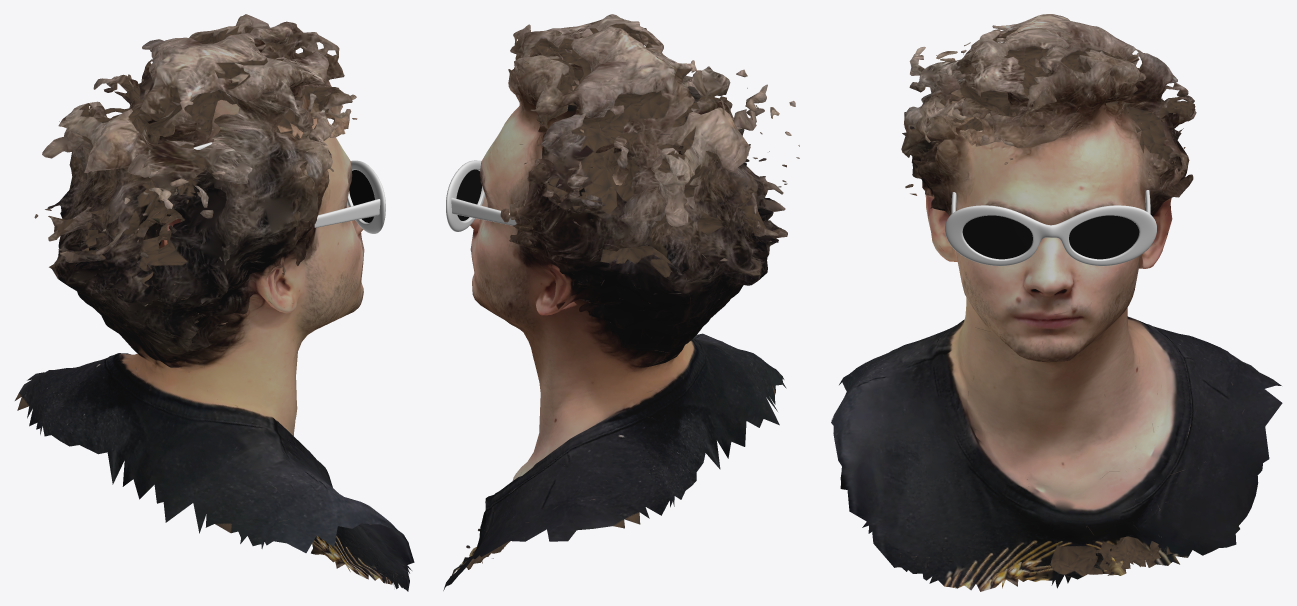
File: meandI2.glb
3 views of the same model, side by side, from view 1: azimuth 30°, elevation 25°; view 2: azimuth 150°, elevation 25°; view 3: azimuth 270°, elevation 25° (orthographic). The views are drawn at different scales.
Parts seen in each view (by area): view 1: mesh_lowpoly.001, Plane.002_Plane.003; view 2: mesh_lowpoly.001, Plane.002_Plane.003; view 3: mesh_lowpoly.001, Plane.002_Plane.003.
Part boxes in pixels (x1,y1,x2,y2): mesh_lowpoly.001: [15, 14, 414, 591]; Plane.002_Plane.003: [193, 142, 385, 233]; mesh_lowpoly.001: [443, 14, 799, 590]; Plane.002_Plane.003: [446, 160, 516, 231]; mesh_lowpoly.001: [831, 14, 1282, 591]; Plane.002_Plane.003: [945, 190, 1156, 265].
Bounding box in the file's own units: 2.12 × 3.38 × 2.71.
3 materials, 1 textured.
